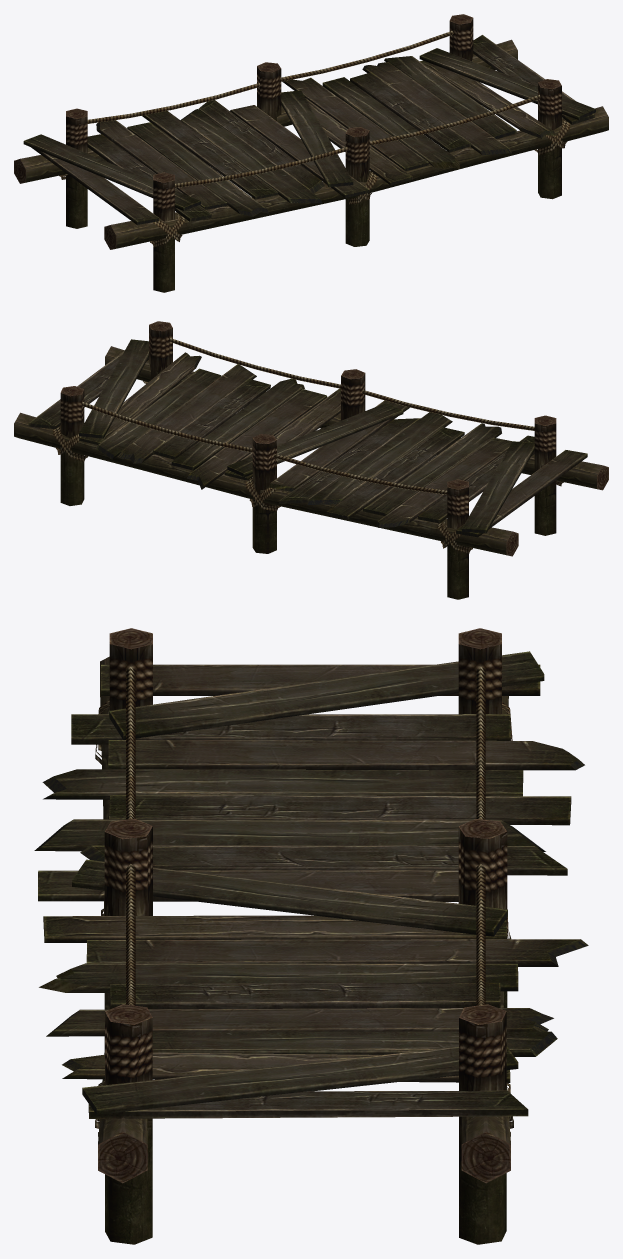
Rendered from C_bridgewood001.fbx.
3 renders of one model, top to bottom at view 1: azimuth 30°, elevation 25°; view 2: azimuth 150°, elevation 25°; view 3: azimuth 270°, elevation 25°, orthographic. The views are drawn at different scales.
Parts seen in each view (by area): view 1: C_bridgewood001; view 2: C_bridgewood001; view 3: C_bridgewood001.
Boxes of the visible parts, x1=… form: C_bridgewood001: x1=14, y1=14, x2=608, y2=292; C_bridgewood001: x1=14, y1=321, x2=608, y2=599; C_bridgewood001: x1=34, y1=628, x2=588, y2=1244.
Size of the model in its own units: 1085 by 234 by 530.
